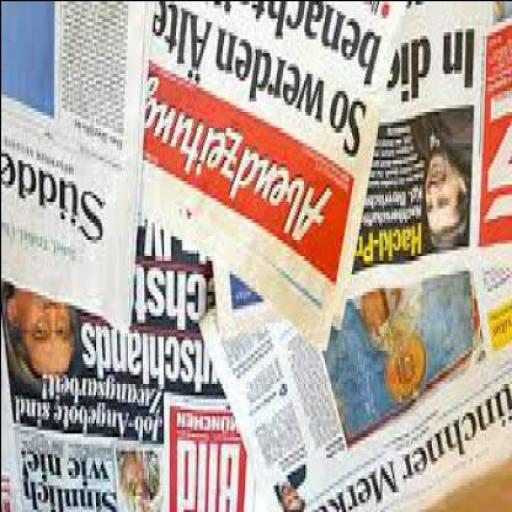paper: (214, 4, 485, 338), (138, 4, 410, 321), (199, 272, 511, 511), (1, 222, 255, 510), (1, 4, 154, 332), (154, 222, 336, 353), (479, 4, 511, 270)
